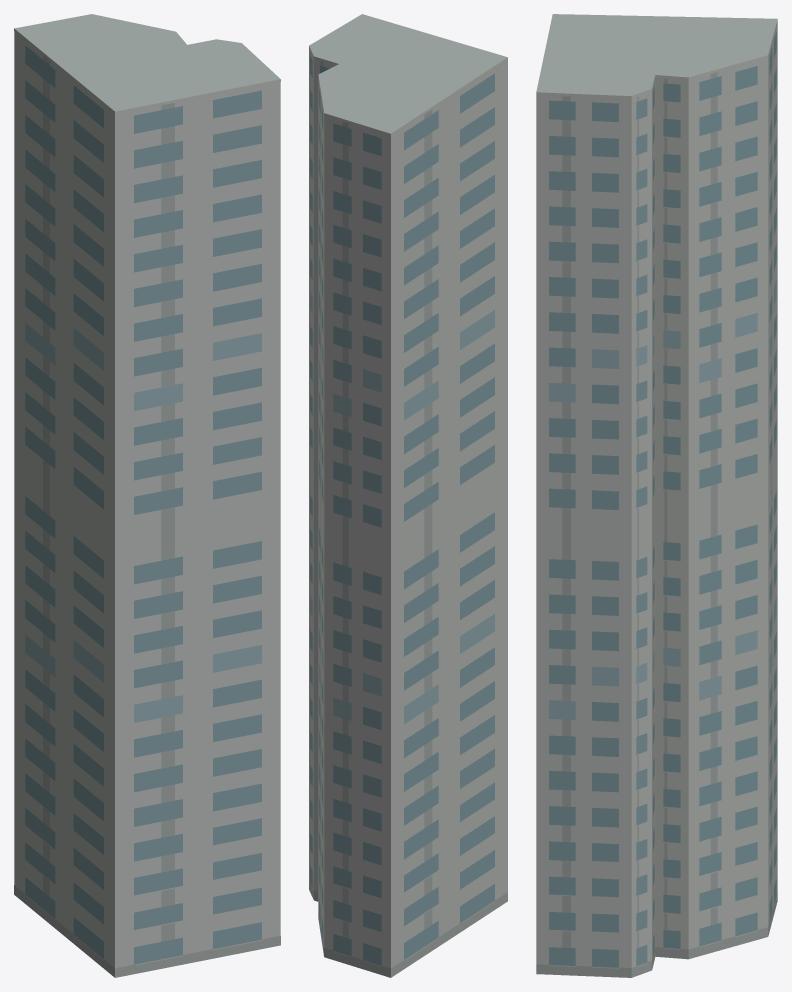
Rendered from survey-upis-32561783.glb.
3 renders of one model, left to right at view 1: azimuth 30°, elevation 25°; view 2: azimuth 150°, elevation 25°; view 3: azimuth 270°, elevation 25°, orthographic. The views are drawn at different scales.
Parts seen in each view (by area): view 1: survey-upis-32561783.tmp; view 2: survey-upis-32561783.tmp; view 3: survey-upis-32561783.tmp.
Boxes of the visible parts, left/top/right/bottom form: survey-upis-32561783.tmp: left=14, top=14, right=280, bottom=977; survey-upis-32561783.tmp: left=309, top=14, right=507, bottom=977; survey-upis-32561783.tmp: left=536, top=14, right=777, bottom=977.
Bounding box in the file's own units: 15.24 × 76.25 × 18.94.
